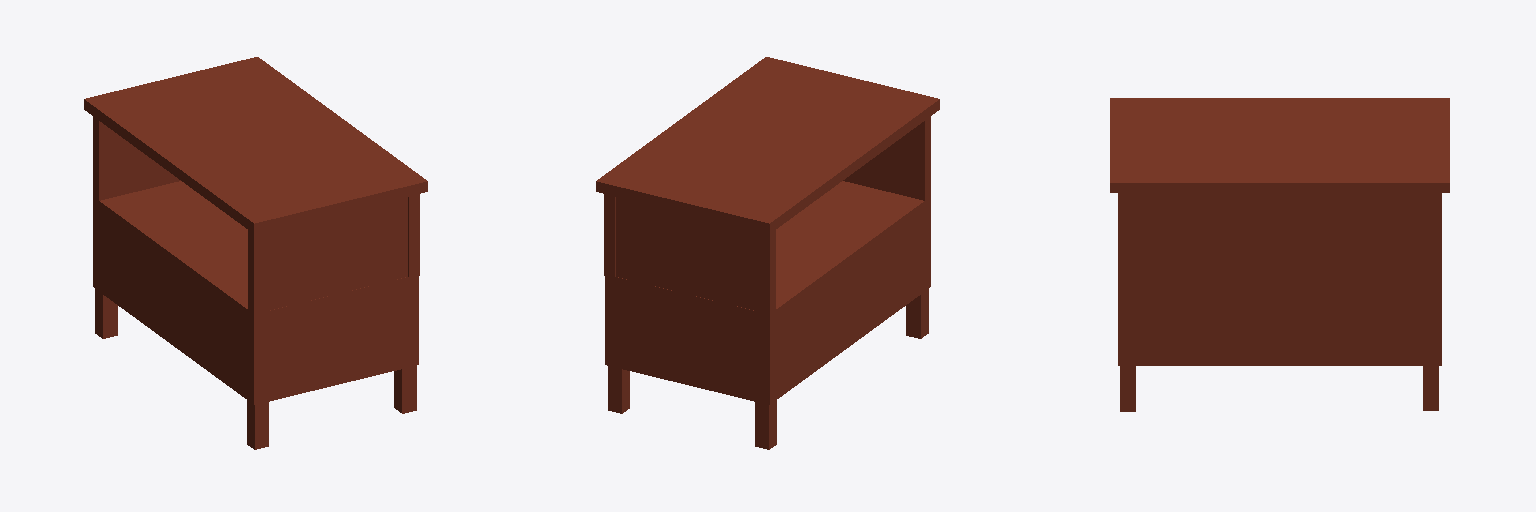
Rendered from drawer.obj.
3 views of the same model, side by side, from view 1: azimuth 30°, elevation 25°; view 2: azimuth 150°, elevation 25°; view 3: azimuth 270°, elevation 25° (orthographic).
Parts seen in each view (by area): view 1: Cube.025_Cube.030; view 2: Cube.025_Cube.030; view 3: Cube.025_Cube.030.
Boxes of the visible parts, x1,y1,x2,y2 form: Cube.025_Cube.030: [84, 57, 427, 449]; Cube.025_Cube.030: [596, 57, 939, 449]; Cube.025_Cube.030: [1110, 98, 1449, 411].
Bounding box in the file's own units: 0.9438 × 1.2 × 1.6.